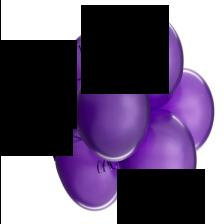purple: (72, 60, 149, 161), (118, 110, 196, 208), (108, 14, 183, 109), (54, 136, 124, 211), (159, 68, 213, 151), (57, 29, 115, 106)
